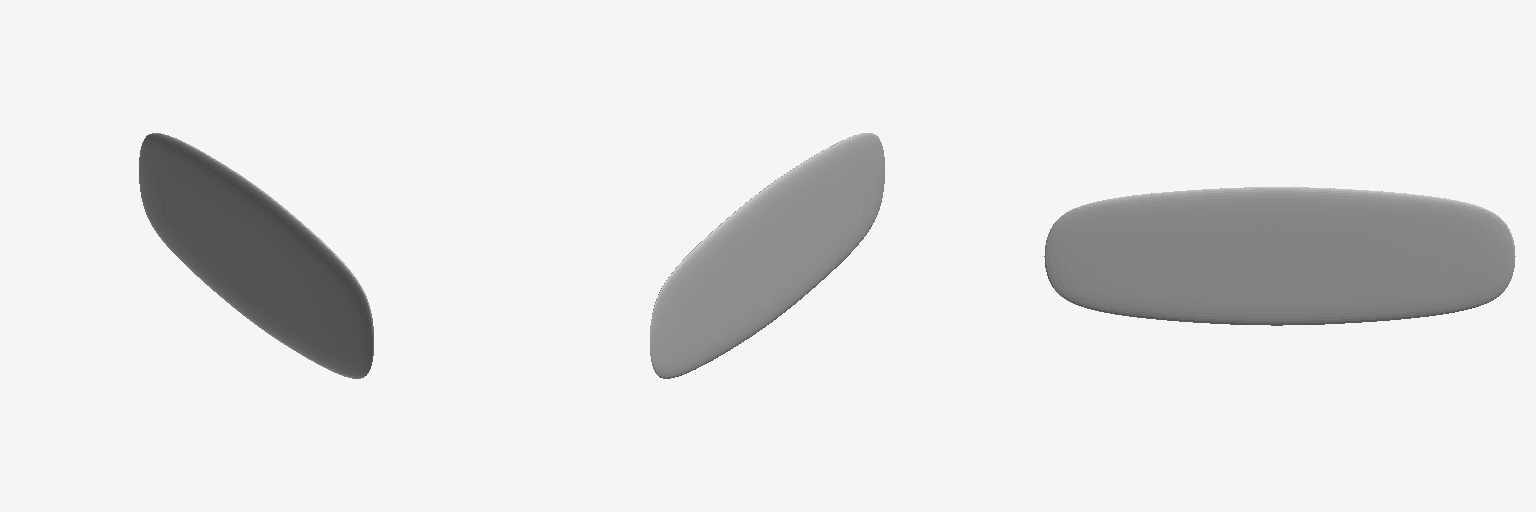
The model's file is game_button.obj.
The picture shows the model from 3 angles: view 1: azimuth 30°, elevation 25°; view 2: azimuth 150°, elevation 25°; view 3: azimuth 270°, elevation 25°; orthographic projection.
Parts seen in each view (by area): view 1: Cube, テキスト; view 2: Cube, テキスト; view 3: Cube.
Boxes of the visible parts, <box> form: Cube: <box>139,133,373,378</box>; テキスト: <box>156,175,353,343</box>; Cube: <box>650,133,884,378</box>; テキスト: <box>677,177,874,345</box>; Cube: <box>1044,187,1515,325</box>.
Size of the model in its own units: 0.0856 by 1.21 by 3.72.